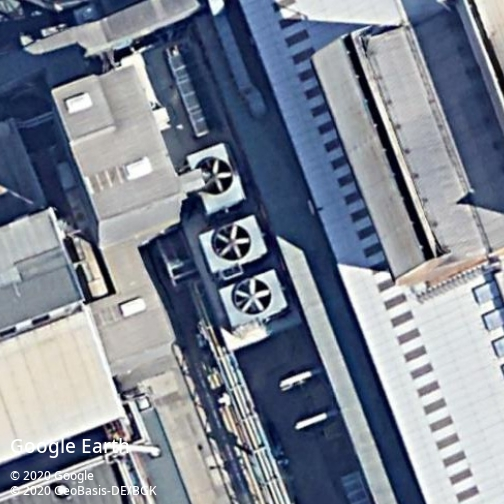Vent: (233, 278, 273, 316), (213, 224, 252, 260), (199, 157, 234, 196)
